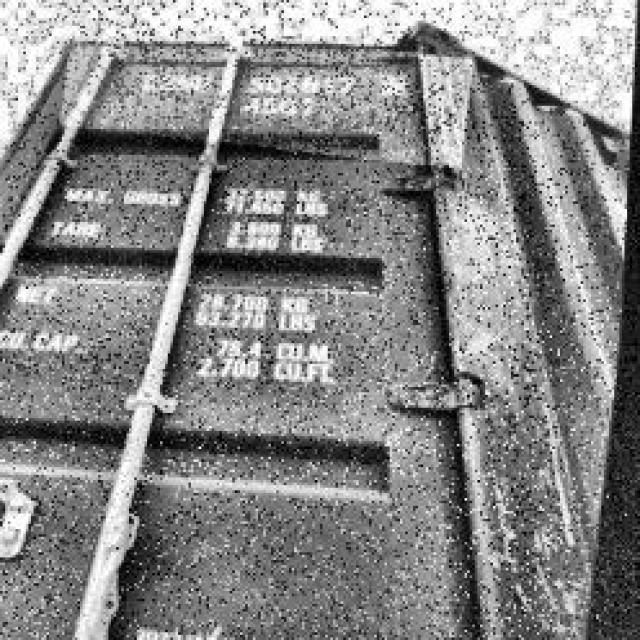ISO: (230, 98, 322, 118)
container_number: (138, 75, 418, 95)
